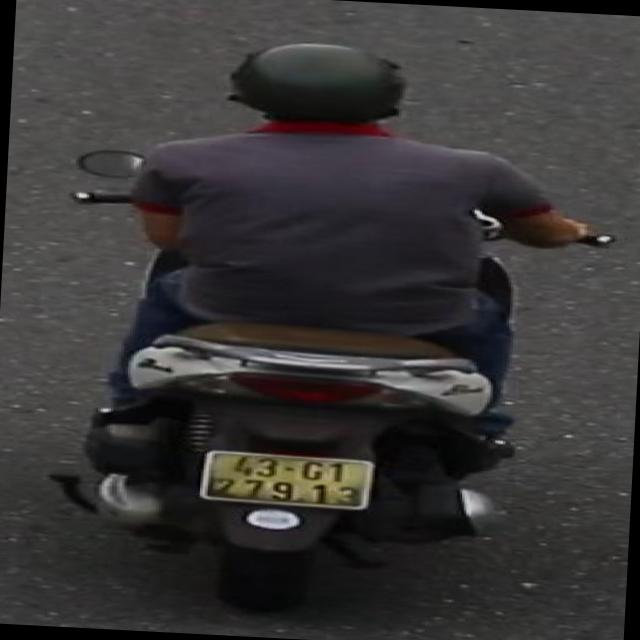LP: (192, 444, 382, 518)
helmet: (216, 32, 418, 151)
